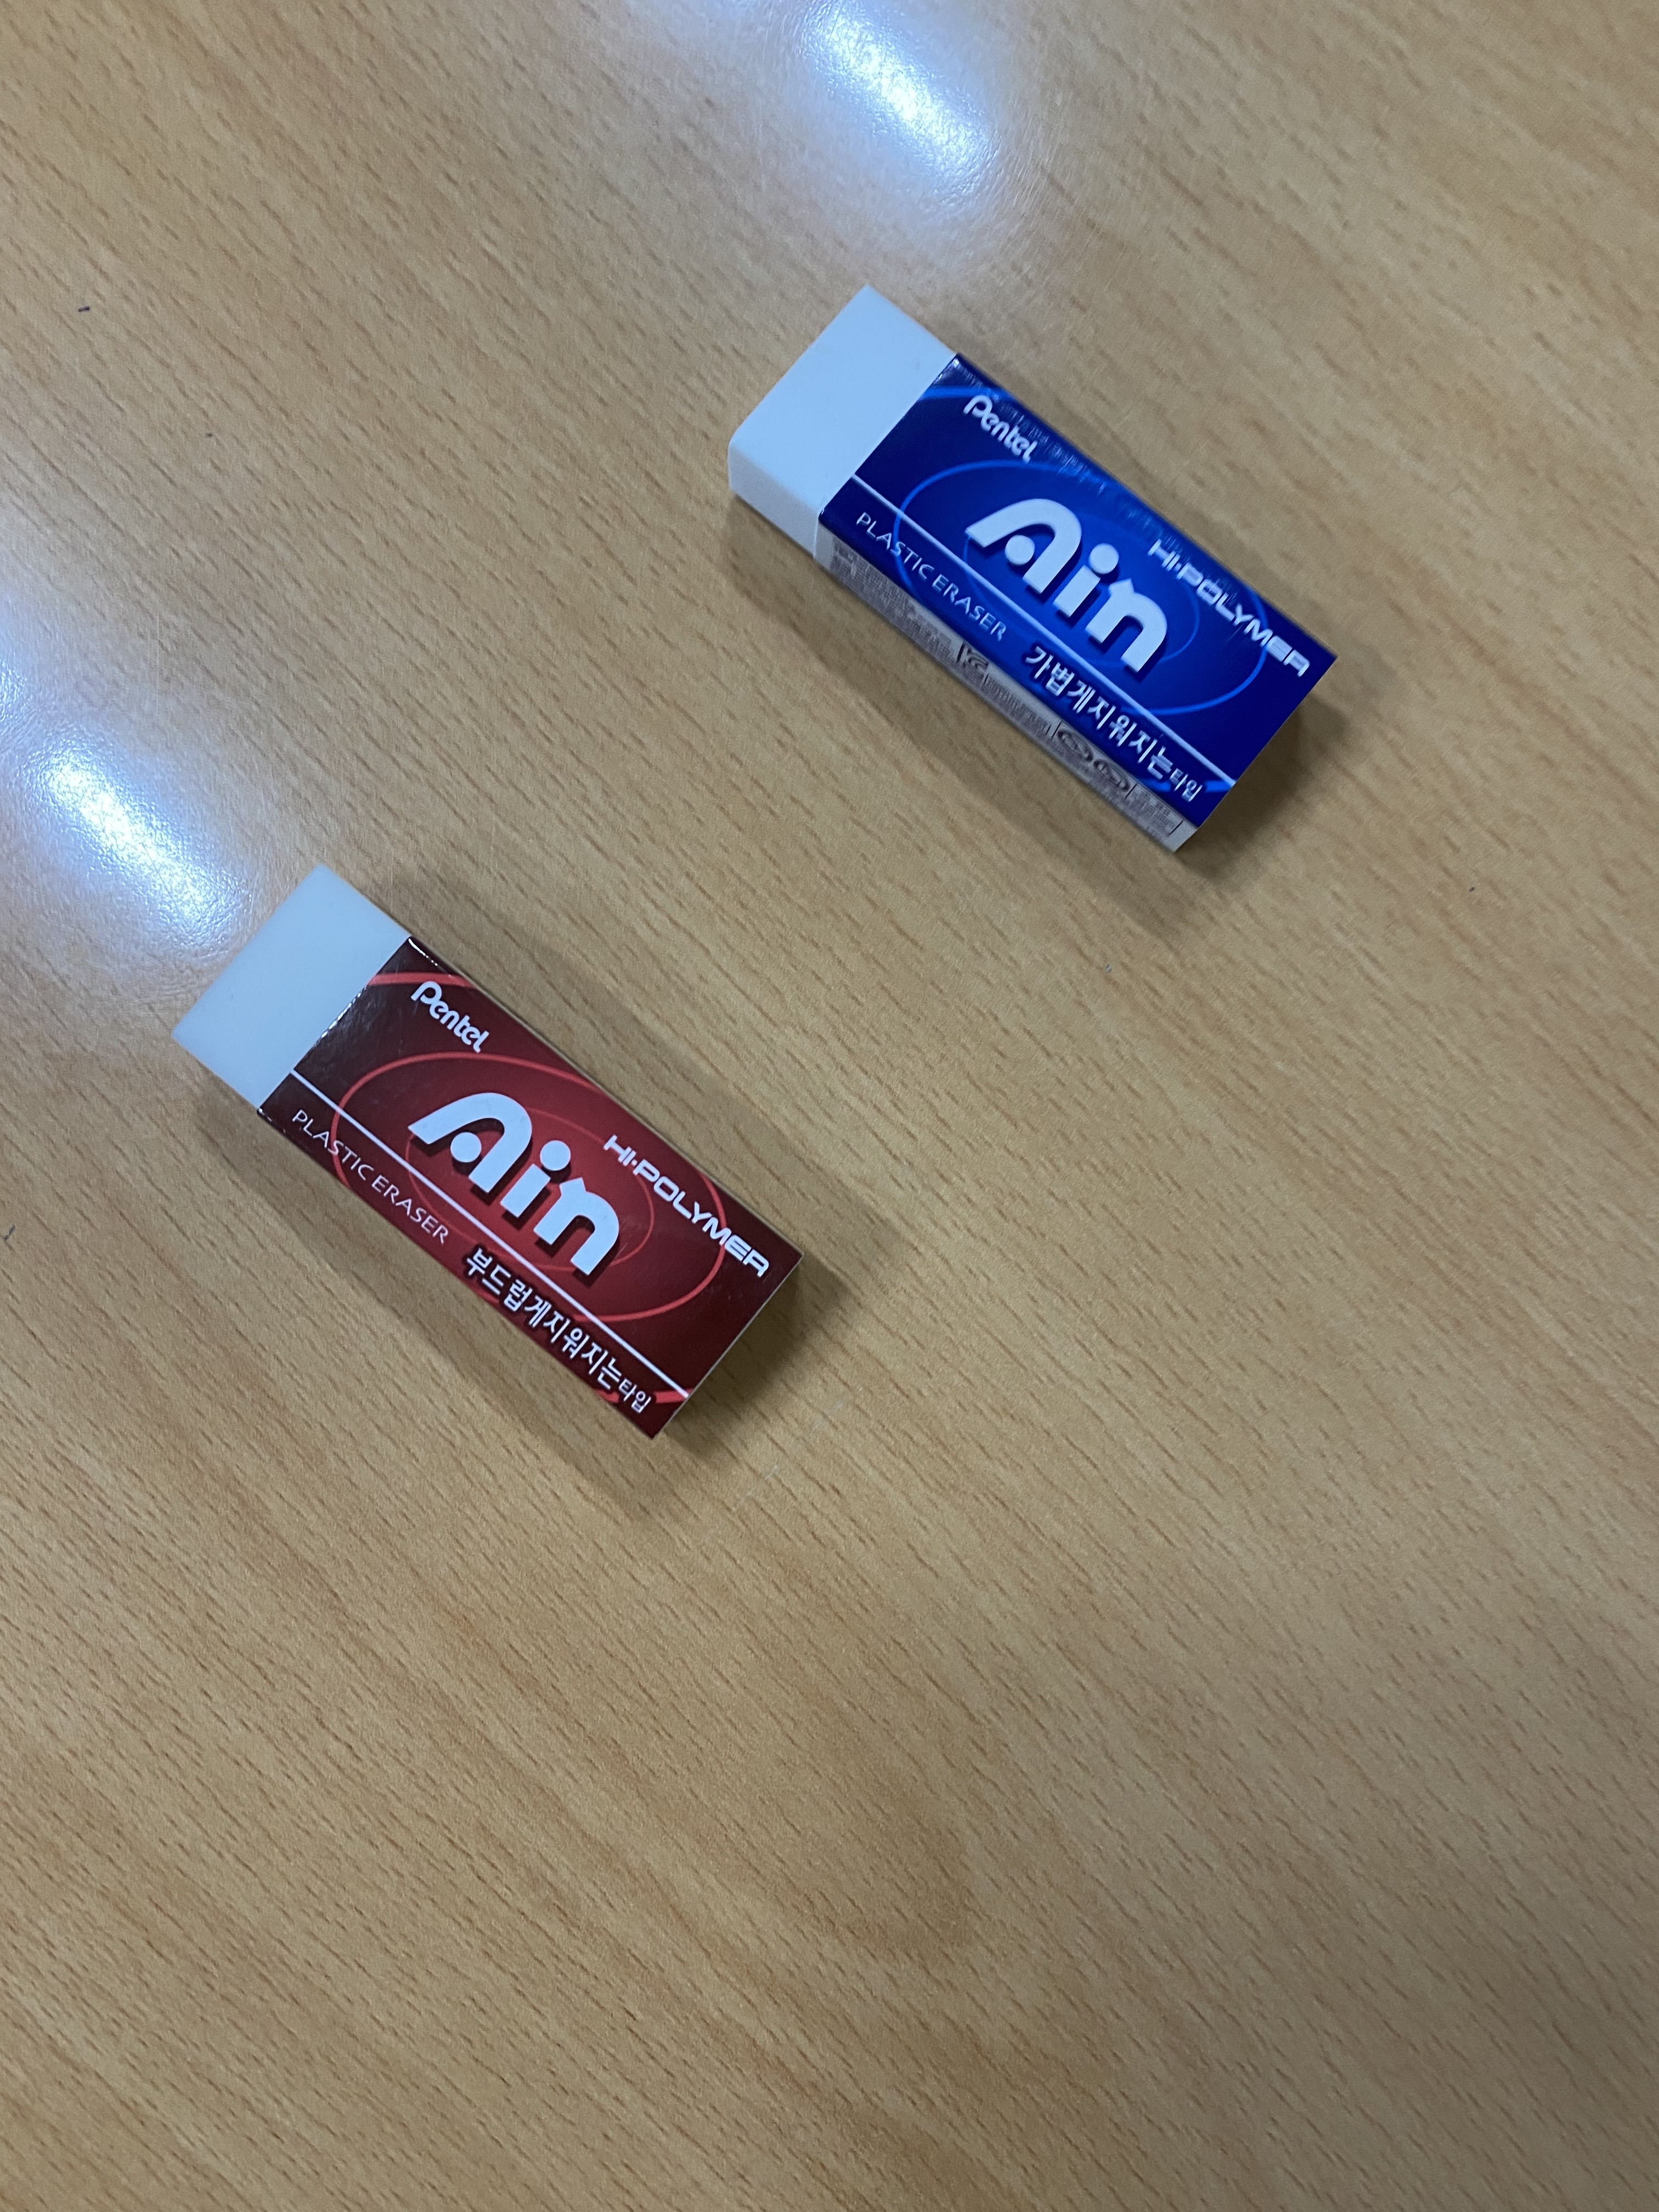blue: (704, 273, 1347, 860)
red: (146, 859, 810, 1446)
